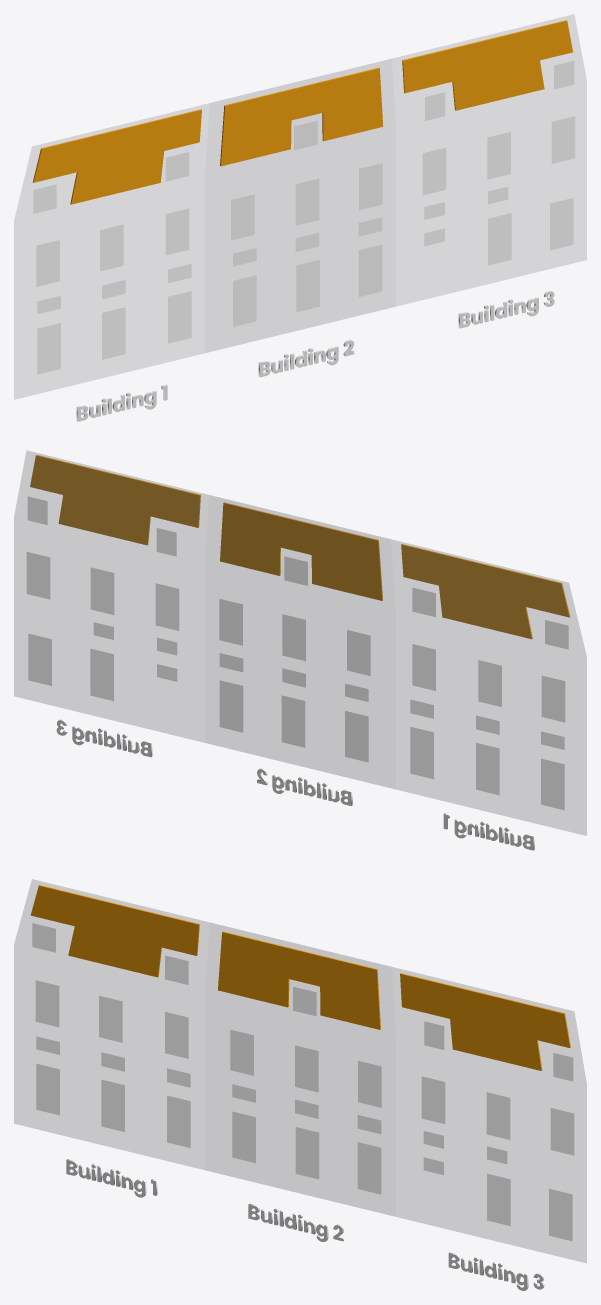
The model's file is mevcut.gltf.
3 renders of one model, top to bottom at view 1: azimuth 30°, elevation 25°; view 2: azimuth 150°, elevation 25°; view 3: azimuth 330°, elevation 25°, orthographic.
Parts seen in each view (by area): view 1: Plane.044, Plane.042, Plane.043, Plane.102, Plane.103, Plane.101, simsekyazi.007, simsekyazi.008, Plane.085, Plane.070, Plane.072, Plane.074 (+17 smaller); view 2: Plane.044, Plane.043, Plane.042, Plane.102, Plane.103, Plane.101, simsekyazi.007, simsekyazi.008, simsekyazi.006, Plane.072, Plane.070, Plane.071 (+17 smaller); view 3: Plane.042, Plane.044, Plane.043, Plane.102, Plane.103, Plane.101, Plane.085, simsekyazi.007, simsekyazi.008, Plane.084, simsekyazi.006, Plane.070 (+17 smaller).
Part boxes in pixels (left/top/right/bottom): Plane.044: left=392, top=14, right=586, bottom=306; Plane.042: left=14, top=103, right=209, bottom=399; Plane.043: left=205, top=59, right=395, bottom=352; Plane.102: left=220, top=67, right=383, bottom=166; Plane.103: left=402, top=20, right=572, bottom=110; Plane.101: left=33, top=109, right=201, bottom=204; simsekyazi.007: left=258, top=339, right=354, bottom=377; simsekyazi.008: left=458, top=290, right=554, bottom=328; Plane.085: left=358, top=244, right=382, bottom=296; Plane.070: left=488, top=213, right=511, bottom=265; Plane.072: left=102, top=307, right=125, bottom=359; Plane.074: left=168, top=291, right=191, bottom=343; Plane.044: left=14, top=451, right=208, bottom=742; Plane.043: left=205, top=495, right=395, bottom=788; Plane.042: left=391, top=539, right=586, bottom=835; Plane.102: left=220, top=502, right=382, bottom=600; Plane.103: left=30, top=455, right=200, bottom=545; Plane.101: left=401, top=544, right=570, bottom=639; simsekyazi.007: left=257, top=768, right=352, bottom=805; simsekyazi.008: left=56, top=719, right=152, bottom=757; simsekyazi.006: left=443, top=813, right=534, bottom=850; Plane.072: left=476, top=743, right=499, bottom=794; Plane.070: left=90, top=649, right=113, bottom=700; Plane.071: left=28, top=634, right=51, bottom=685; Plane.042: left=14, top=879, right=209, bottom=1169; Plane.044: left=392, top=967, right=586, bottom=1262; Plane.043: left=205, top=923, right=395, bottom=1216; Plane.102: left=218, top=931, right=380, bottom=1029; Plane.103: left=400, top=973, right=570, bottom=1070; Plane.101: left=30, top=885, right=199, bottom=977; Plane.085: left=357, top=1142, right=381, bottom=1194; simsekyazi.007: left=248, top=1203, right=343, bottom=1241; simsekyazi.008: left=448, top=1252, right=544, bottom=1290; Plane.084: left=295, top=1127, right=319, bottom=1179; simsekyazi.006: left=66, top=1159, right=157, bottom=1197; Plane.070: left=487, top=1173, right=510, bottom=1225.
Size of the model in its own units: 0.761 by 0.3637 by 0.0132.
